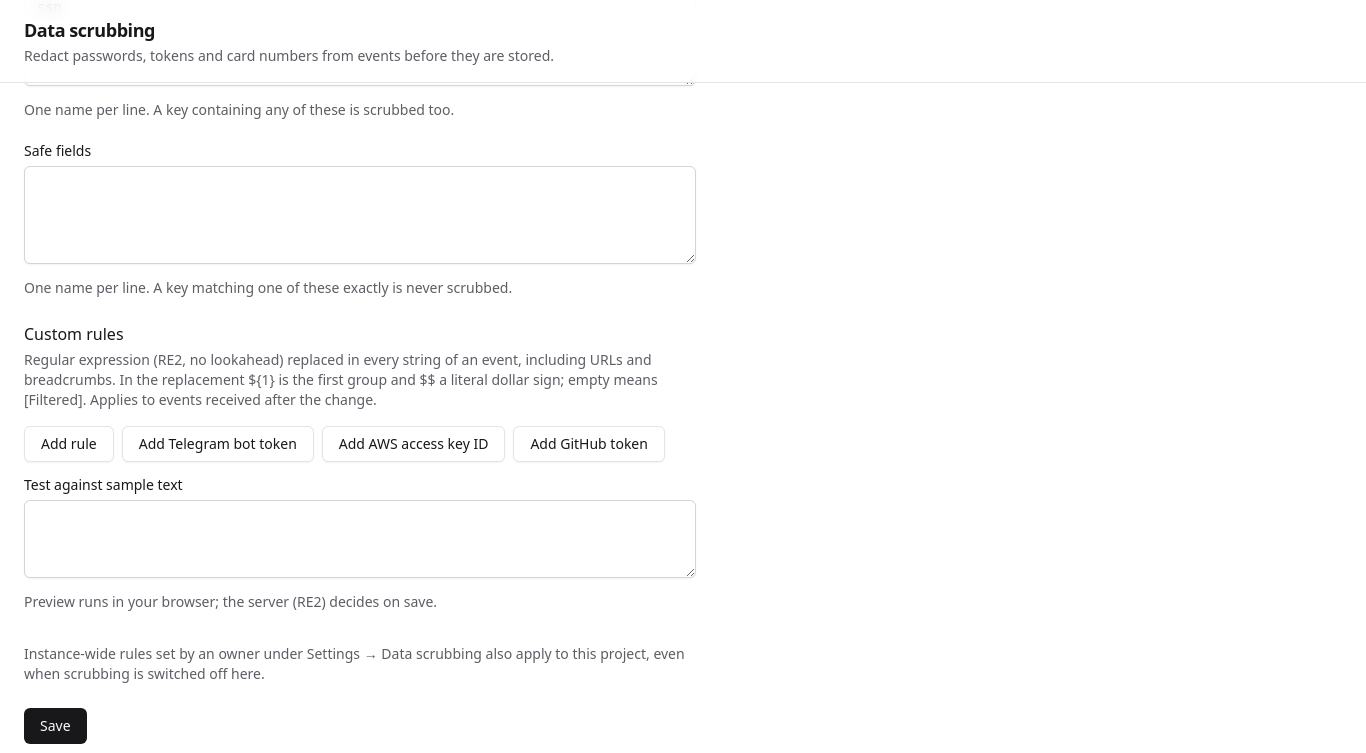
Test case: DataScrubbingPage › shows the server's message when saving fails
The width and height of the screenshot is (1366, 753).
(page scrolled)
What coordinates should you click on to do the following:
click the button "Save"
I would click on:
 (55, 726)
Its box is x1=24 y1=708 x2=87 y2=744.
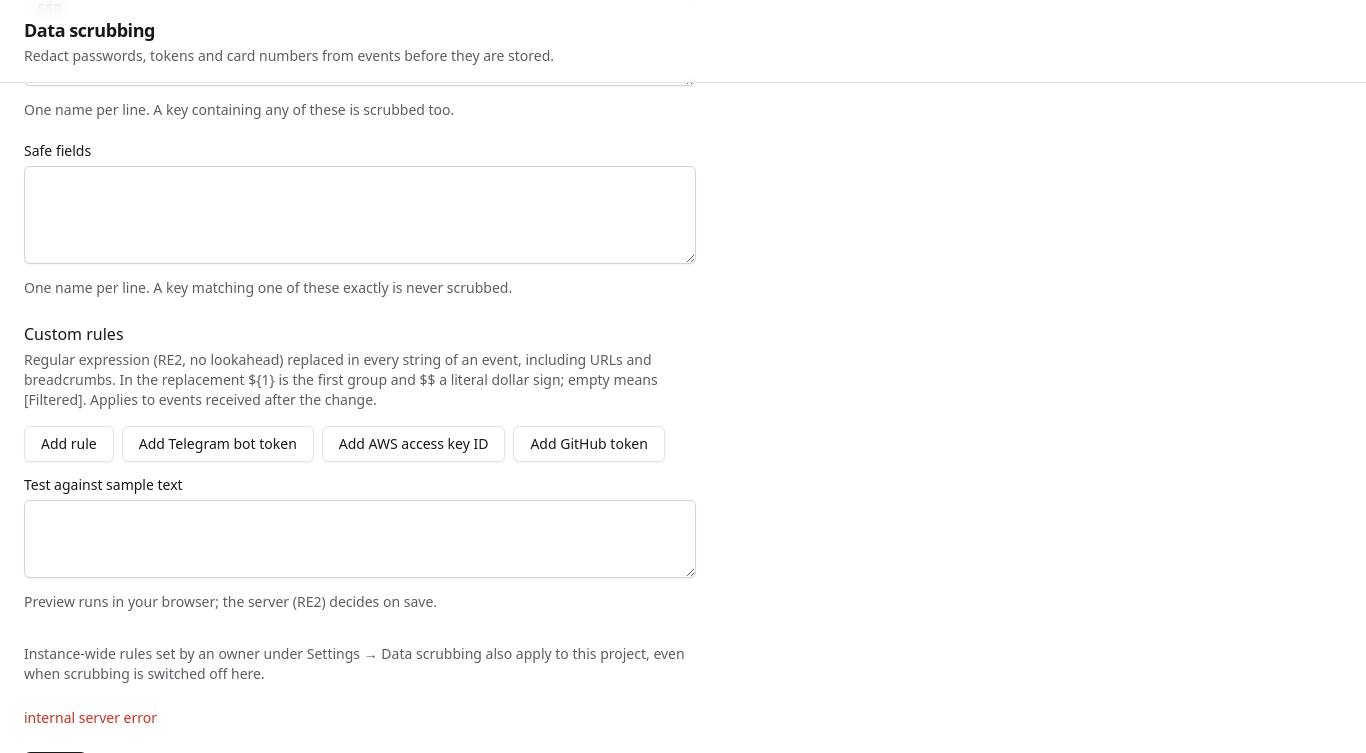
Expected: the message reads "internal server error", x1=24 y1=708 x2=157 y2=727
